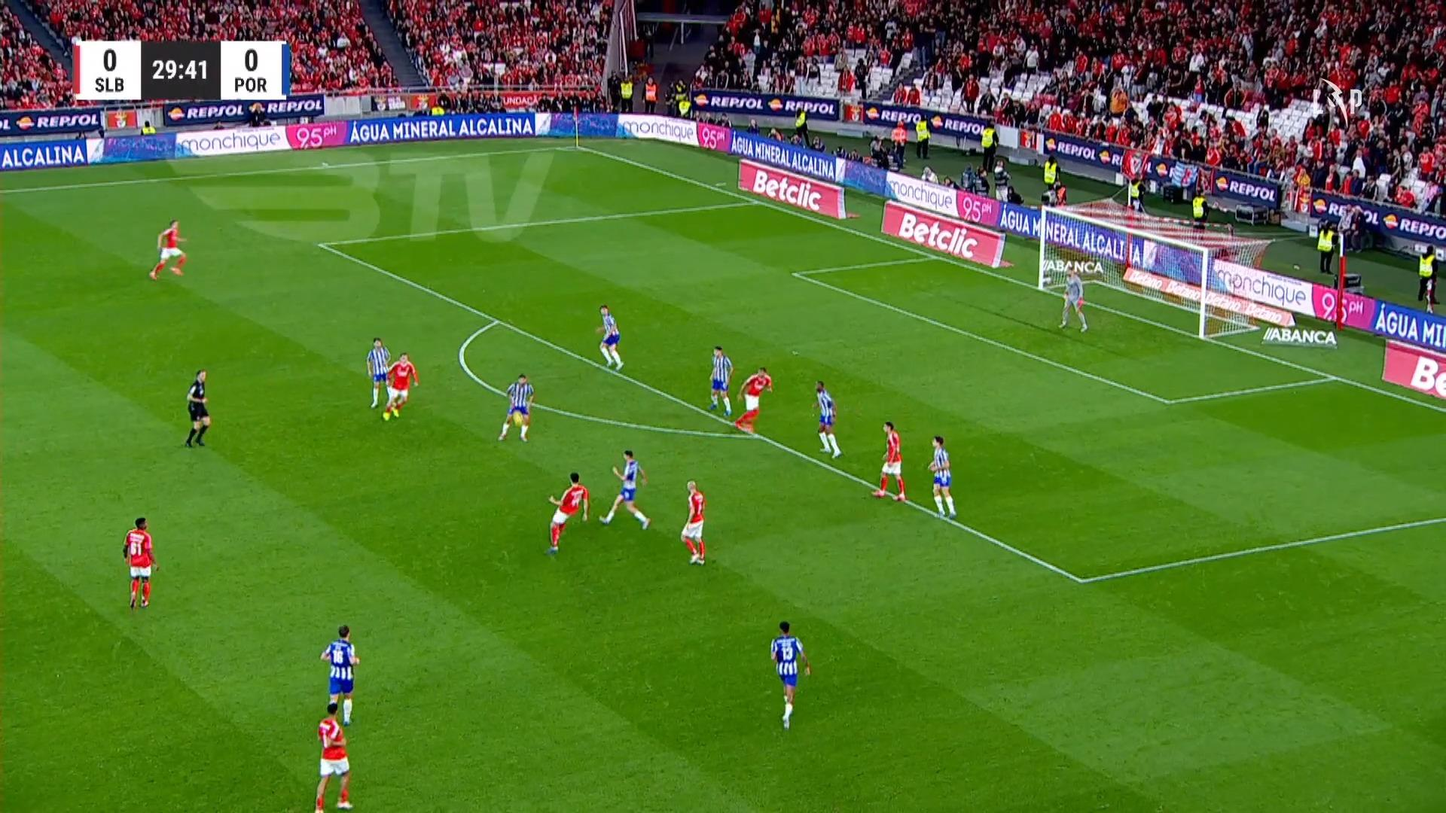ball: (511, 413, 526, 426)
goalkeeper: (1058, 267, 1088, 332)
player: (769, 620, 811, 729), (598, 449, 651, 530), (314, 701, 352, 811), (319, 624, 359, 726), (545, 471, 590, 553), (121, 516, 159, 609), (871, 421, 907, 501), (732, 367, 773, 434), (380, 352, 419, 420), (497, 373, 534, 442), (810, 379, 842, 458), (927, 434, 956, 519), (148, 218, 187, 279), (679, 480, 706, 565), (707, 345, 734, 417), (596, 304, 624, 371), (365, 337, 390, 409)
referee: (184, 369, 211, 447)
